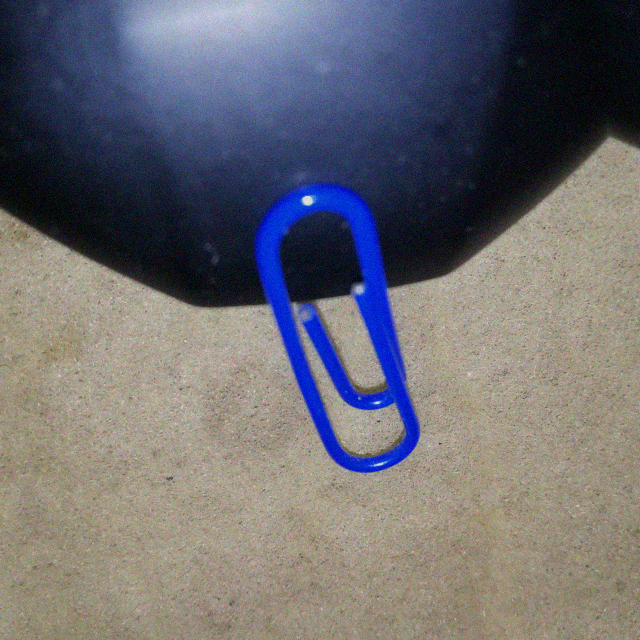pin: (249, 179, 427, 493)
